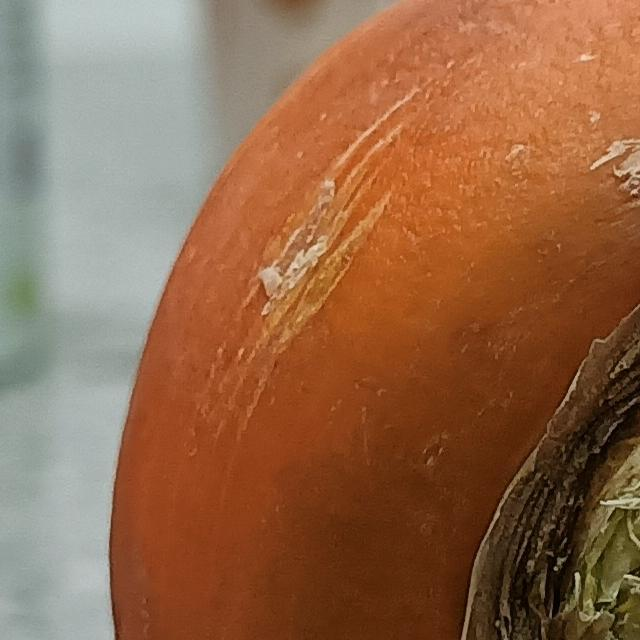carrot: (97, 1, 640, 640)
